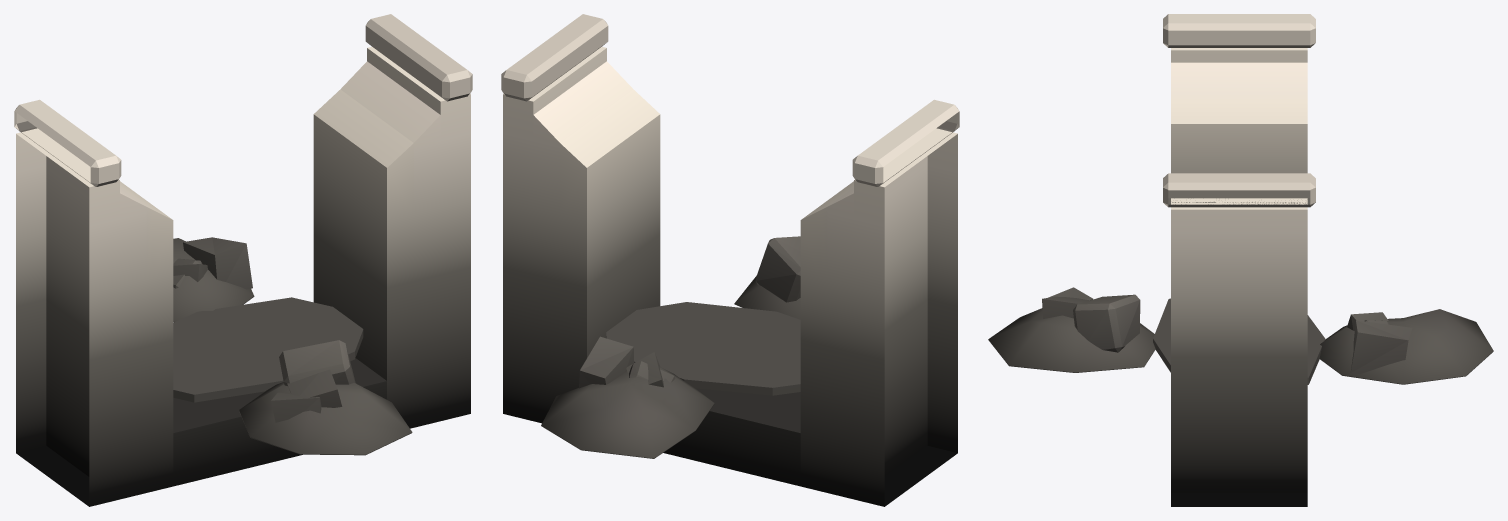
Rendered from SM_VKI_Wall_Dungeon_Breach_150_Cut.fbx.
3 views of the same model, side by side, from view 1: azimuth 30°, elevation 25°; view 2: azimuth 150°, elevation 25°; view 3: azimuth 270°, elevation 25° (orthographic). The views are drawn at different scales.
Parts seen in each view (by area): view 1: SM_VKI_Wall_Dungeon_Breach_150_Cut.001; view 2: SM_VKI_Wall_Dungeon_Breach_150_Cut.001; view 3: SM_VKI_Wall_Dungeon_Breach_150_Cut.001.
Boxes of the visible parts, left/top/right/bottom form: SM_VKI_Wall_Dungeon_Breach_150_Cut.001: left=14, top=14, right=472, bottom=506; SM_VKI_Wall_Dungeon_Breach_150_Cut.001: left=501, top=14, right=959, bottom=506; SM_VKI_Wall_Dungeon_Breach_150_Cut.001: left=988, top=14, right=1493, bottom=506.
Size of the model in its own units: 1.5 by 1.3 by 1.85.
